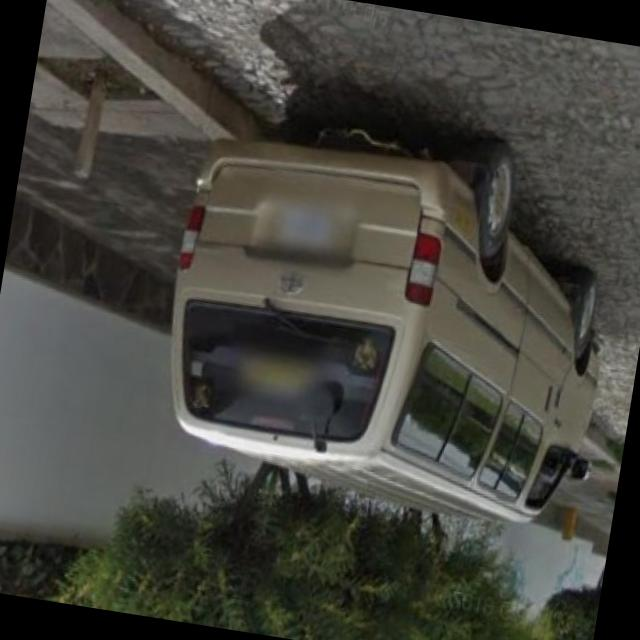car: (152, 96, 640, 522)
